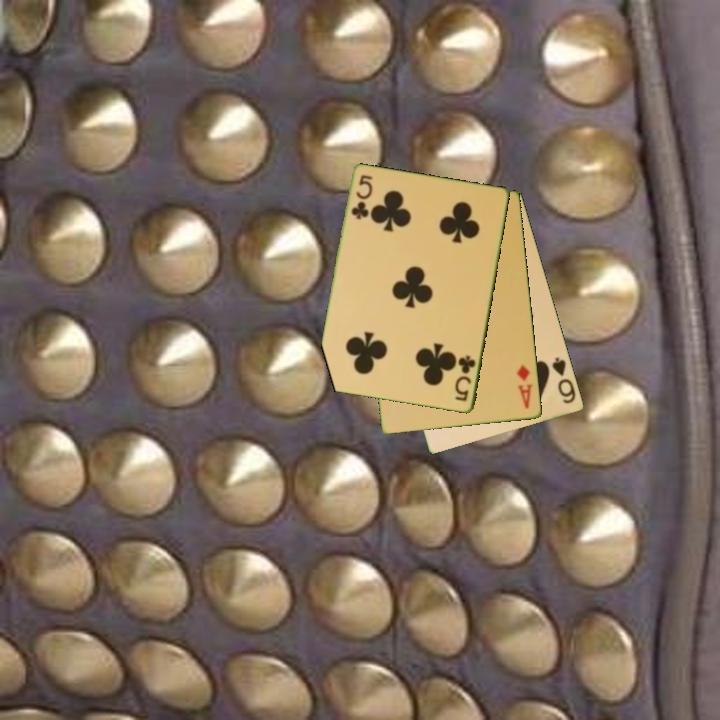5c: (451, 352, 479, 404), (348, 172, 375, 222)
6s: (549, 354, 579, 407)
Ad: (513, 362, 536, 412)
